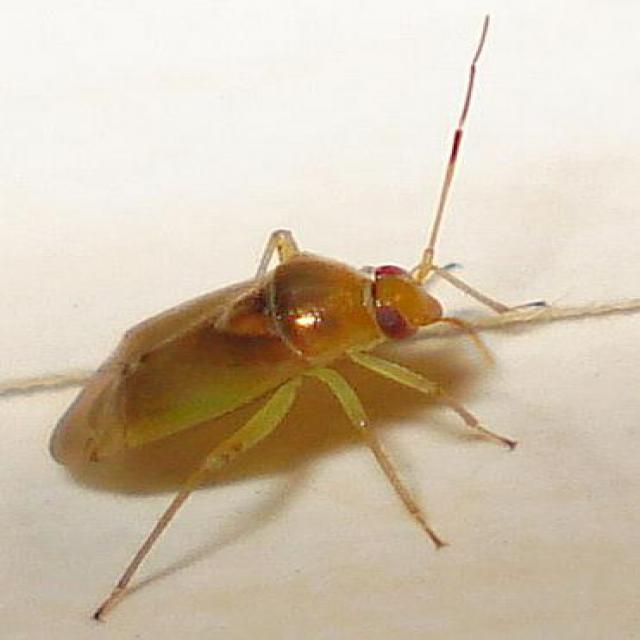Miridae-Adult-: (59, 12, 554, 602)
